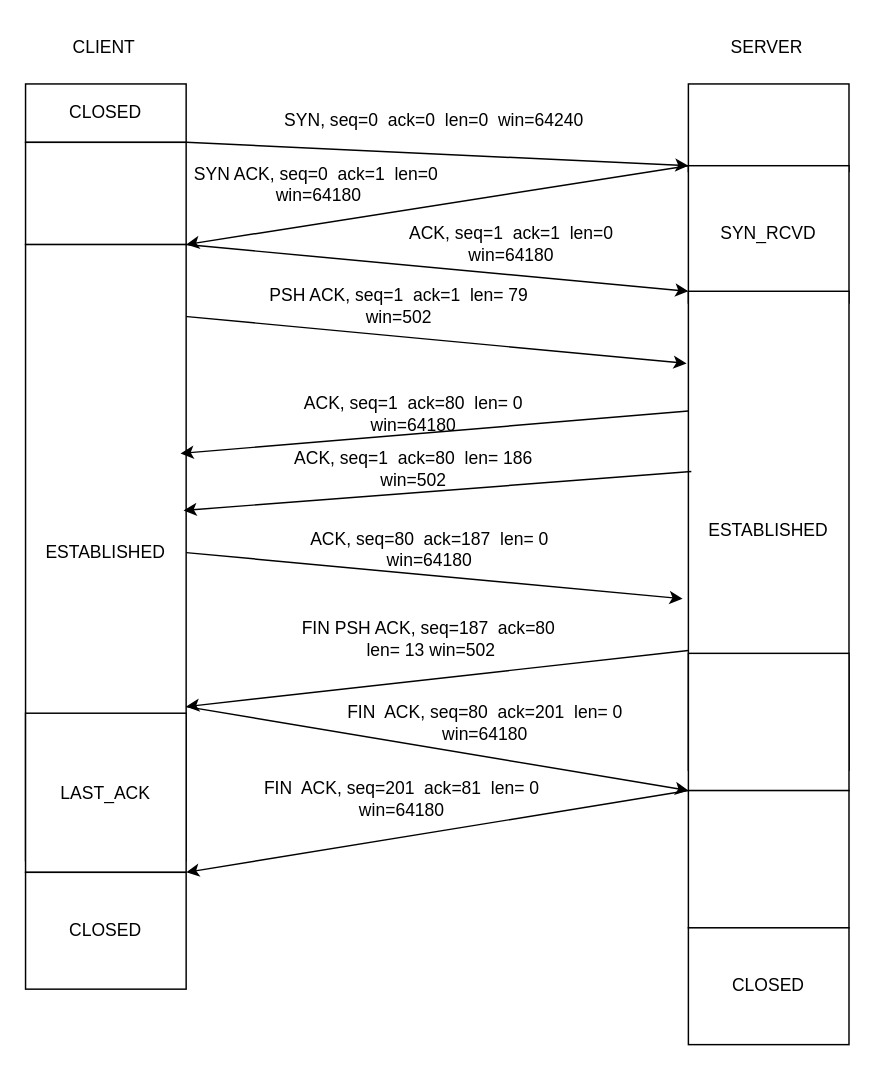
The diagram is 875 pixels wide and 1070 high, and some of its shapes have lost their labels. Here are the shapes that lost their labels. From the top down, the centre of each, then its label:
(x=768, y=127): LISTEN
(x=105, y=193): SYN_SENT
(x=768, y=721): FIN_WAIT1
(x=768, y=858): TIME_WAIT
